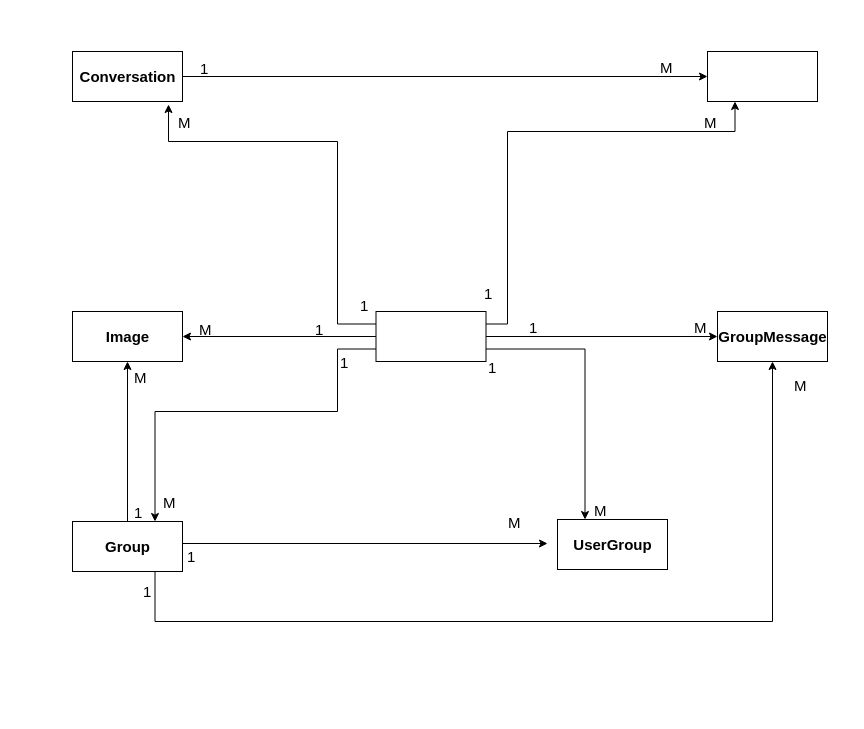
Image size: 864x729. Some labels were removed from this diagram. The box of each missing label's shape, as (x1, y1, x2, y2) in pixels:
Message: (706, 50, 818, 102)
User: (375, 310, 486, 362)
